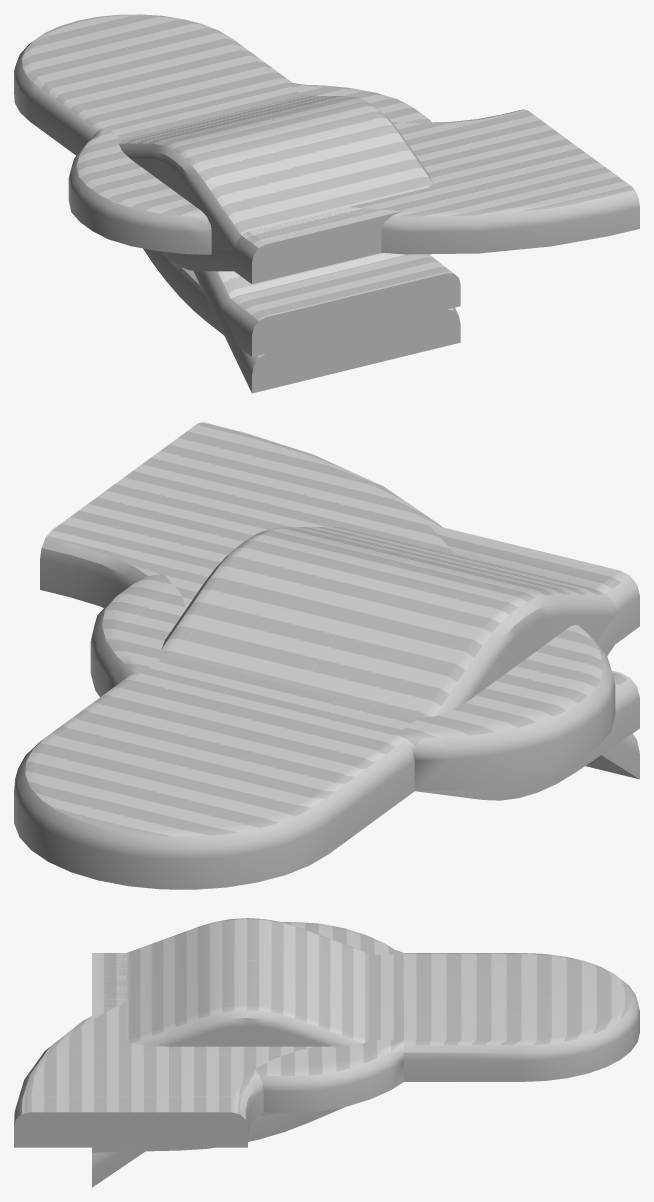
Rendered from Floor_2x3_SofterEdge_thin.fbx.
3 views of the same model, one above another, from view 1: azimuth 30°, elevation 25°; view 2: azimuth 150°, elevation 25°; view 3: azimuth 270°, elevation 25° (orthographic). The views are drawn at different scales.
Parts seen in each view (by area): view 1: Floor_2x3_SrE_Th_hill, Floor_2x3_SrE_Th_rotate, Floor_2x3_SrE_Th_cap, Floor_2x3_SrE_Th_ramp2, Floor_2x3_SrE_Th_circle, Floor_2x3_SrE_Th_ramp1, Floor_2x3_SrE_Th_deep1; view 2: Floor_2x3_SrE_Th_cap, Floor_2x3_SrE_Th_hill, Floor_2x3_SrE_Th_rotate, Floor_2x3_SrE_Th_circle, Floor_2x3_SrE_Th_ramp2, Floor_2x3_SrE_Th_deep1, Floor_2x3_SrE_Th_ramp1; view 3: Floor_2x3_SrE_Th_hill, Floor_2x3_SrE_Th_rotate, Floor_2x3_SrE_Th_cap, Floor_2x3_SrE_Th_circle, Floor_2x3_SrE_Th_ramp2, Floor_2x3_SrE_Th_ramp1, Floor_2x3_SrE_Th_deep1.
Boxes of the visible parts, x1=… form: Floor_2x3_SrE_Th_hill: x1=112, y1=95, x2=432, y2=283; Floor_2x3_SrE_Th_rotate: x1=106, y1=83, x2=639, y2=254; Floor_2x3_SrE_Th_cap: x1=14, y1=14, x2=292, y2=155; Floor_2x3_SrE_Th_ramp2: x1=143, y1=248, x2=460, y2=356; Floor_2x3_SrE_Th_circle: x1=68, y1=82, x2=431, y2=254; Floor_2x3_SrE_Th_ramp1: x1=190, y1=253, x2=460, y2=393; Floor_2x3_SrE_Th_deep1: x1=114, y1=133, x2=399, y2=283; Floor_2x3_SrE_Th_cap: x1=14, y1=673, x2=414, y2=889; Floor_2x3_SrE_Th_hill: x1=161, y1=524, x2=629, y2=730; Floor_2x3_SrE_Th_rotate: x1=40, y1=422, x2=455, y2=735; Floor_2x3_SrE_Th_circle: x1=90, y1=574, x2=615, y2=791; Floor_2x3_SrE_Th_ramp2: x1=417, y1=670, x2=639, y2=800; Floor_2x3_SrE_Th_deep1: x1=406, y1=525, x2=639, y2=727; Floor_2x3_SrE_Th_ramp1: x1=585, y1=733, x2=639, y2=779; Floor_2x3_SrE_Th_hill: x1=92, y1=918, x2=369, y2=1046; Floor_2x3_SrE_Th_rotate: x1=14, y1=954, x2=403, y2=1147; Floor_2x3_SrE_Th_cap: x1=404, y1=953, x2=639, y2=1081; Floor_2x3_SrE_Th_circle: x1=255, y1=922, x2=403, y2=1112; Floor_2x3_SrE_Th_ramp2: x1=92, y1=1106, x2=345, y2=1152; Floor_2x3_SrE_Th_ramp1: x1=92, y1=1147, x2=150, y2=1187; Floor_2x3_SrE_Th_deep1: x1=92, y1=953, x2=281, y2=1116.
Bounding box in the file's own units: 594 × 249 × 803.
